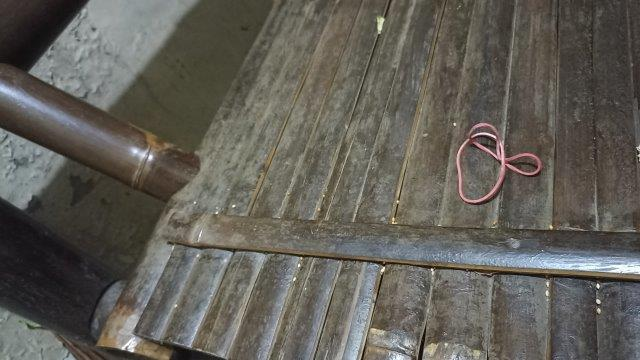karet: (456, 123, 542, 204)
